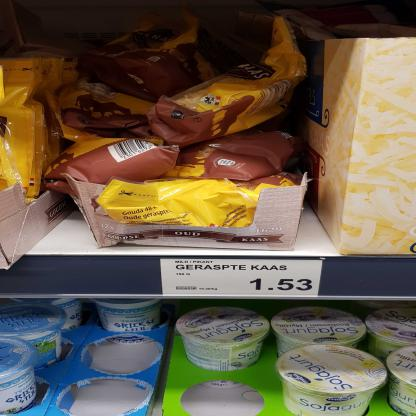prtg: (161, 259, 324, 299)
